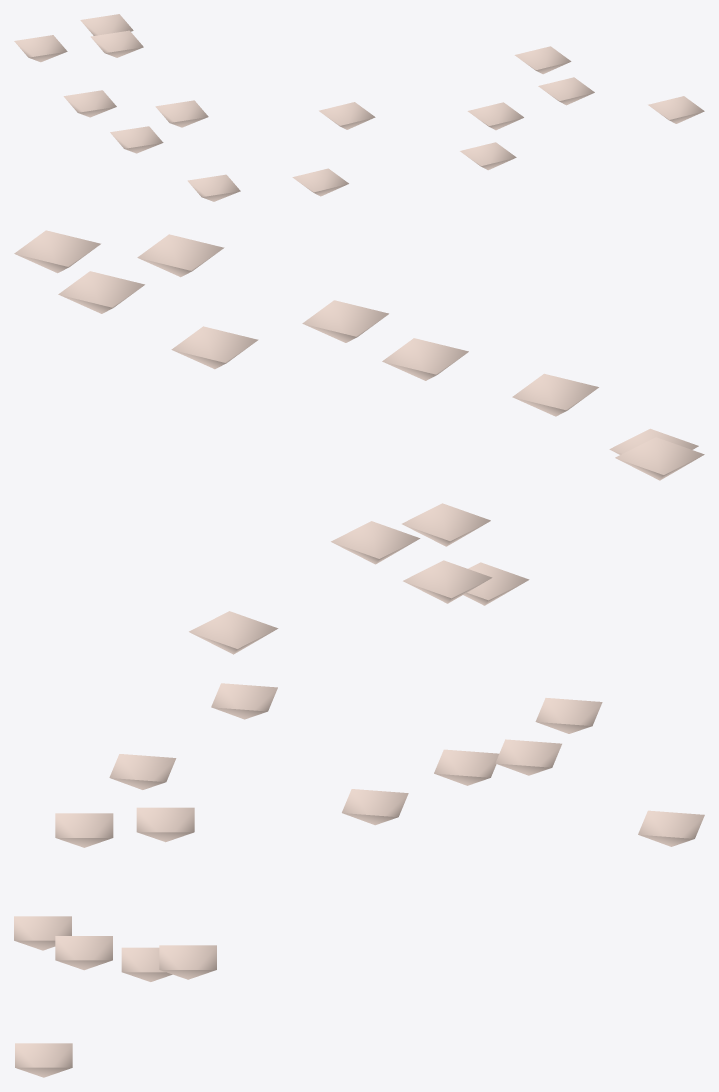
3 views of the same model, one above another, from view 1: azimuth 30°, elevation 25°; view 2: azimuth 150°, elevation 25°; view 3: azimuth 270°, elevation 25° (orthographic). The views are drawn at different scales.
Visible parts, largest first — view 1: Object16; view 2: Object16; view 3: Object16.
Part boxes in pixels (x1,y1,x2,y2): Object16: (14,14,704,201); Object16: (14,230,704,654); Object16: (14,683,704,1077).
Bounding box in the file's own units: 156 × 13.93 × 133.
